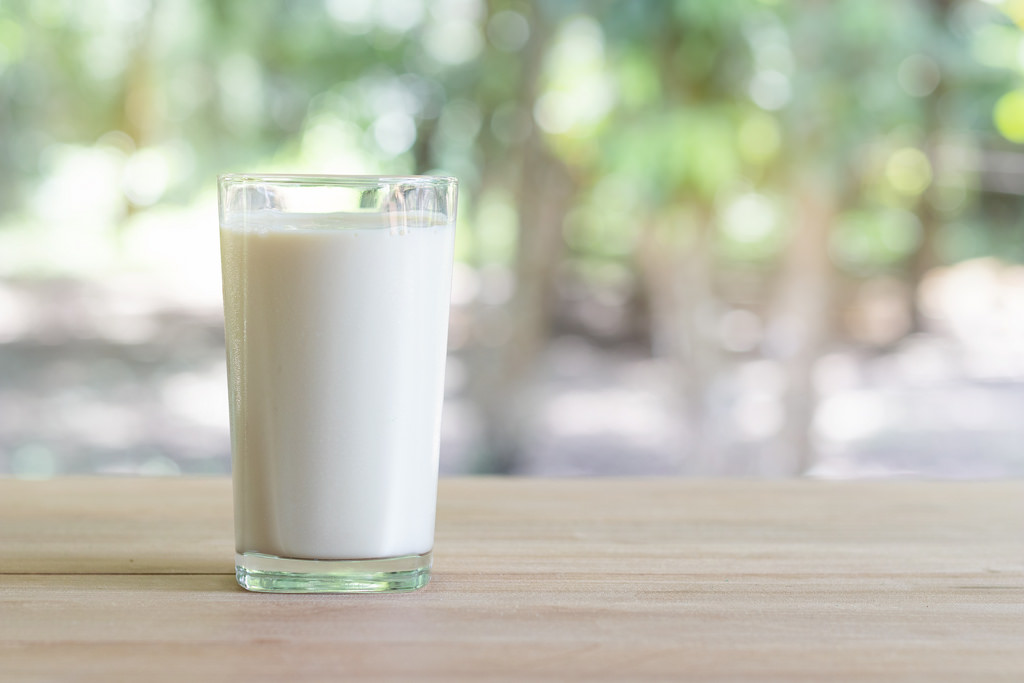glass of milk: (211, 172, 449, 598)
